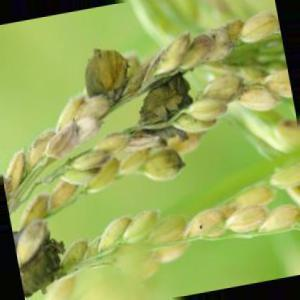Leaf_Scald: (134, 66, 193, 131), (86, 44, 126, 112), (19, 233, 59, 298)
